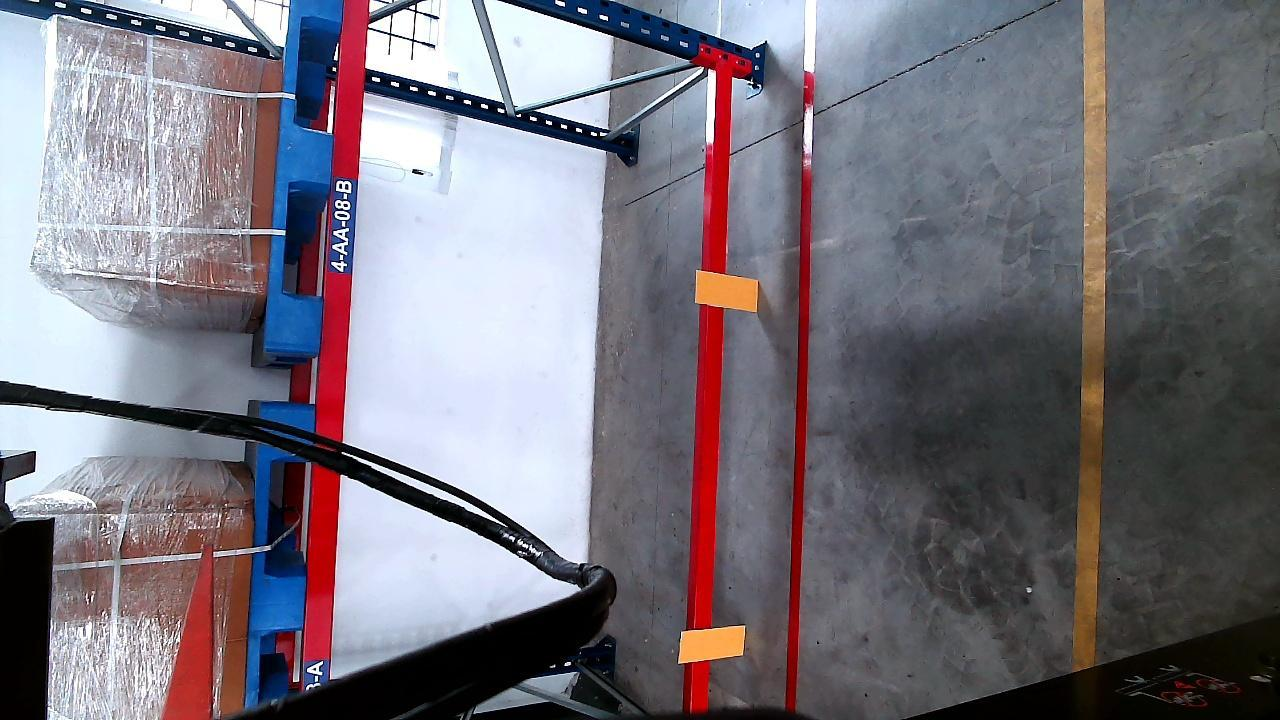red_line: (783, 1, 819, 707)
